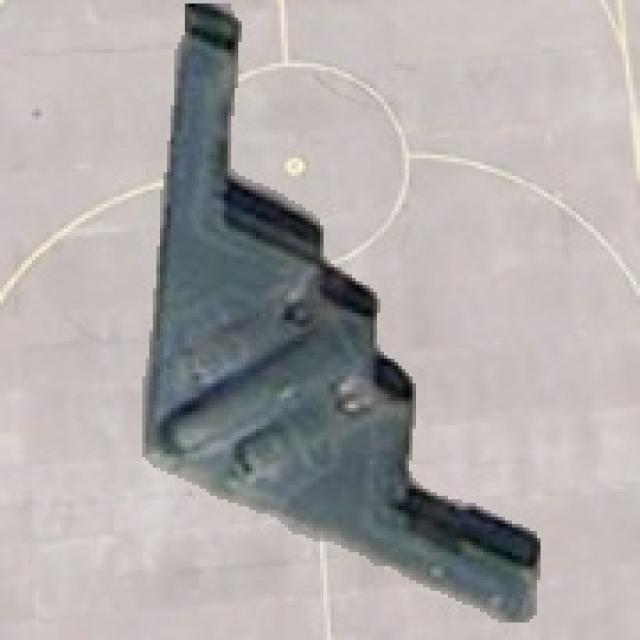B-2_TopDown: (135, 0, 544, 622)
